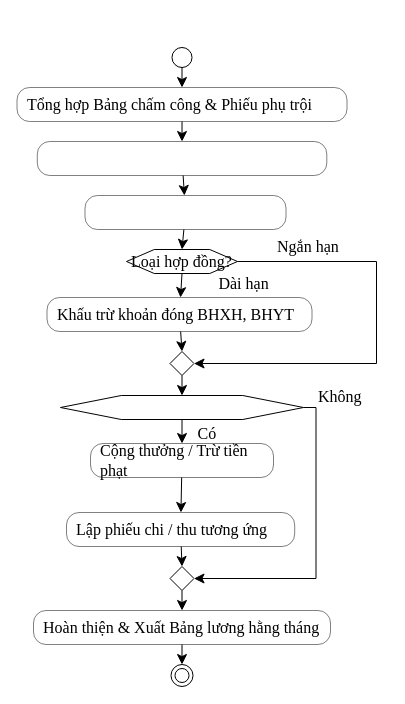
The diagram is 405 pixels wide and 704 high, and some of its shapes have lost their labels. The box of each missing label's shape, as (x1, y1, x2, y2) in pixels:
Có quyết định khen thưởng / kỷ luật?: (60, 394, 304, 420)
Truy xuất Quyết định lương và Chức vụ: (37, 141, 327, 175)
Tính mức lương cơ bản: (84, 195, 286, 229)
